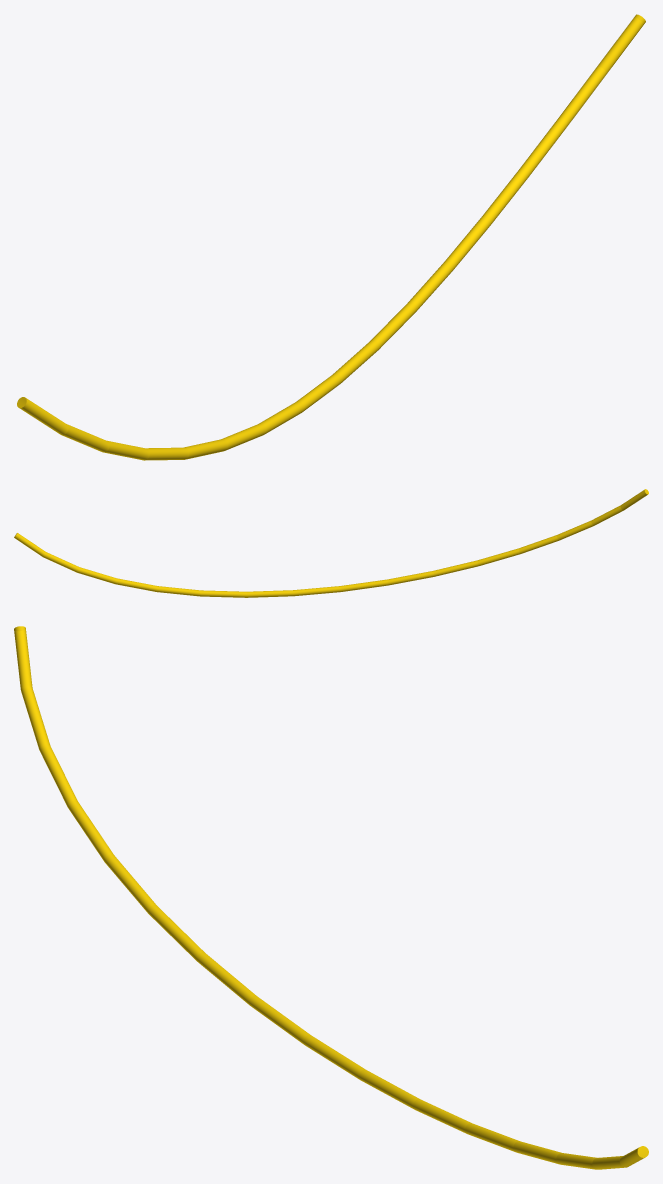
Rendered from Event_420094457_track_34.fbx.
3 renders of one model, top to bottom at view 1: azimuth 30°, elevation 25°; view 2: azimuth 150°, elevation 25°; view 3: azimuth 270°, elevation 25°, orthographic. The views are drawn at different scales.
Visible parts, largest first — view 1: Model; view 2: Model; view 3: Model.
Part boxes in pixels (x1,y1,x2,y2): Model: (17,14,645,460); Model: (14,489,648,597); Model: (14,626,648,1169).
Bounding box in the file's own units: 3.55 × 0.759 × 2.13.
